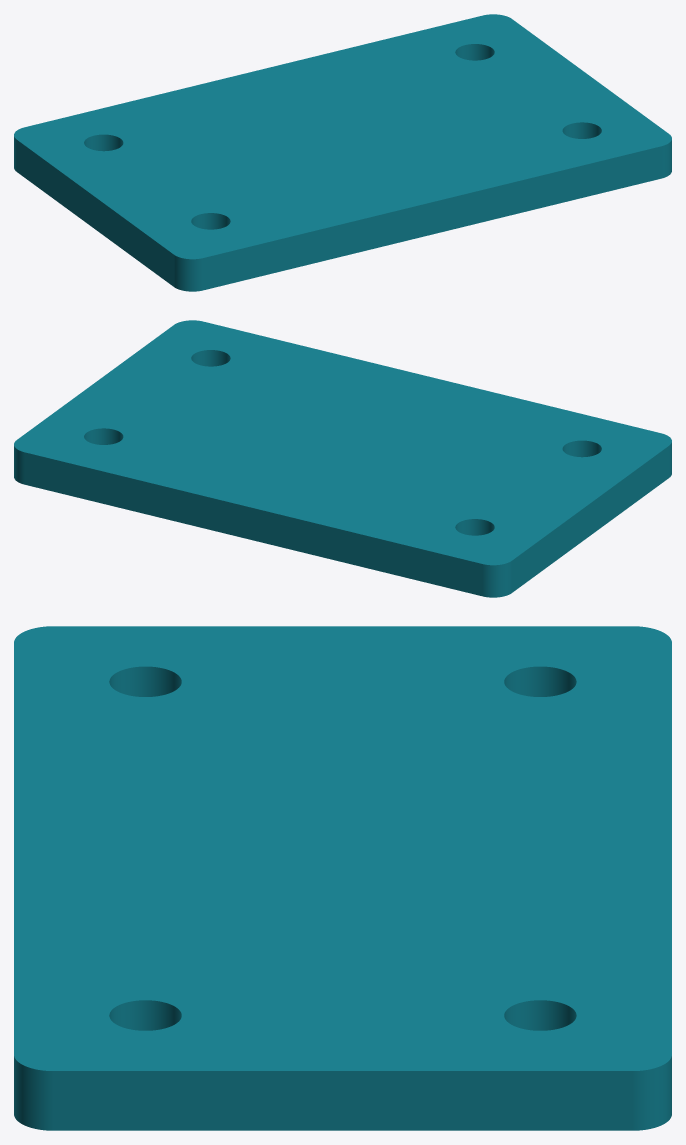
The model's file is mounting_plate.glb.
3 renders of one model, top to bottom at view 1: azimuth 30°, elevation 25°; view 2: azimuth 150°, elevation 25°; view 3: azimuth 270°, elevation 25°, orthographic. The views are drawn at different scales.
Parts seen in each view (by area): view 1: mounting_plate; view 2: mounting_plate; view 3: mounting_plate.
Part boxes in pixels (box(x1,y1,x2,y2)): mounting_plate: box(14, 14, 671, 291); mounting_plate: box(14, 320, 671, 597); mounting_plate: box(14, 626, 671, 1130).
Size of the model in its own units: 0.08 by 0.005 by 0.05.
